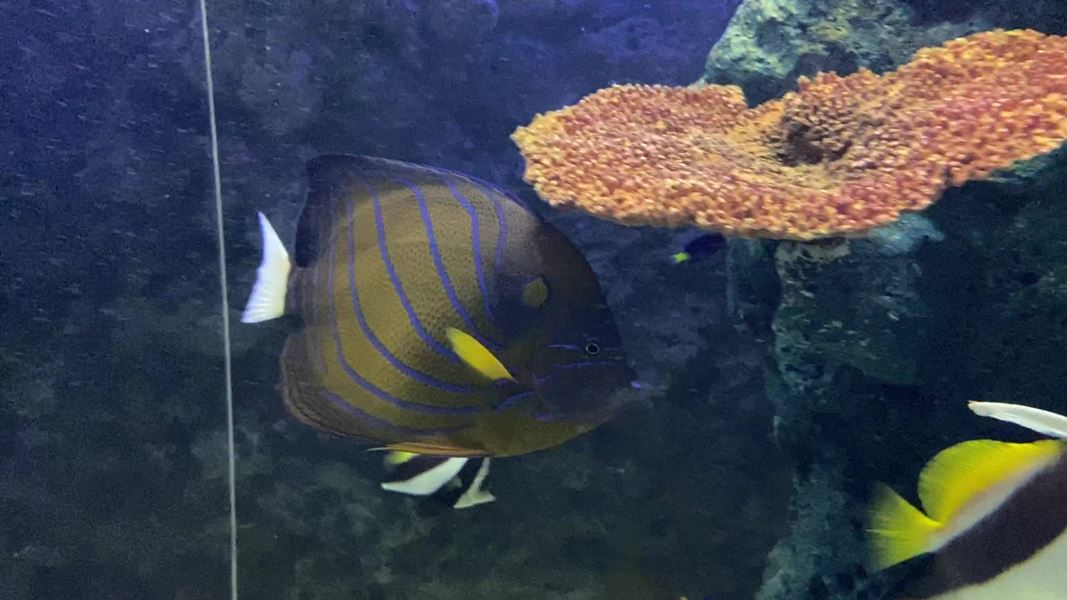Blue ring angelfish: (232, 142, 644, 478)
